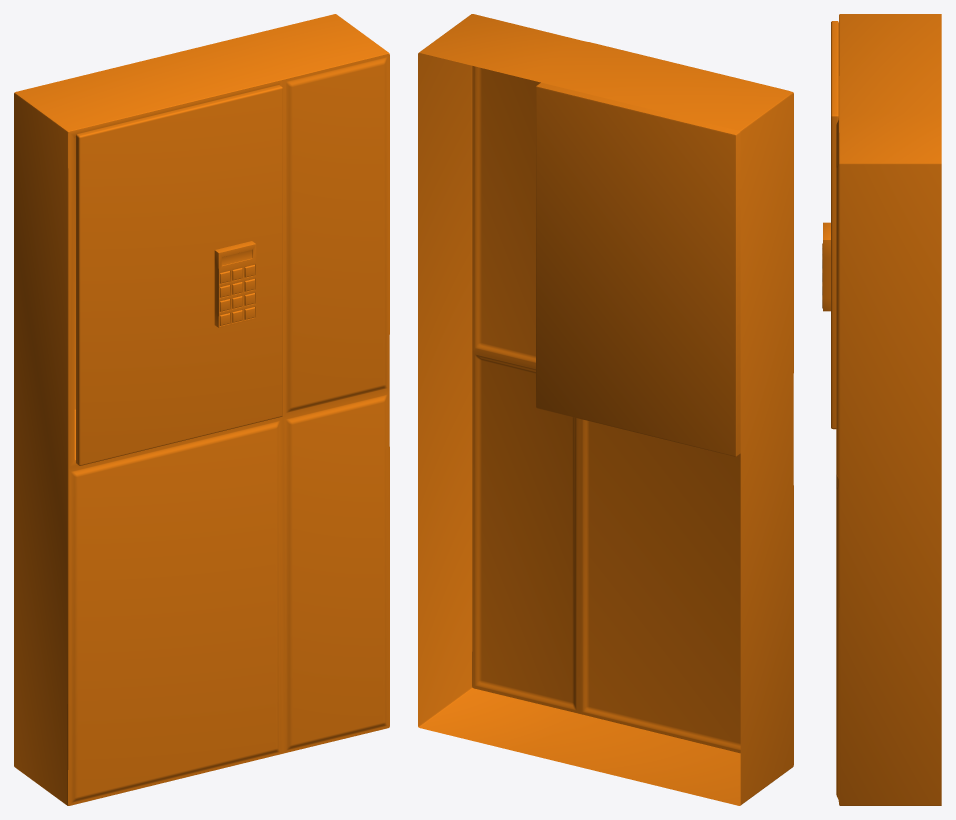
File: SM_Electricity.fbx
3 views of the same model, side by side, from view 1: azimuth 30°, elevation 25°; view 2: azimuth 150°, elevation 25°; view 3: azimuth 270°, elevation 25° (orthographic). The views are drawn at different scales.
Visible parts, largest first — view 1: Electricity_Locker_lp, Electricity_Door_lp; view 2: Electricity_Locker_lp; view 3: Electricity_Locker_lp, Electricity_Door_lp.
Part boxes in pixels (x1,y1,x2,y2): Electricity_Locker_lp: (14, 14, 389, 805); Electricity_Door_lp: (76, 85, 282, 465); Electricity_Locker_lp: (418, 14, 793, 805); Electricity_Locker_lp: (836, 14, 941, 805); Electricity_Door_lp: (822, 21, 838, 429).
Size of the model in its own units: 9 by 18 by 3.03.
